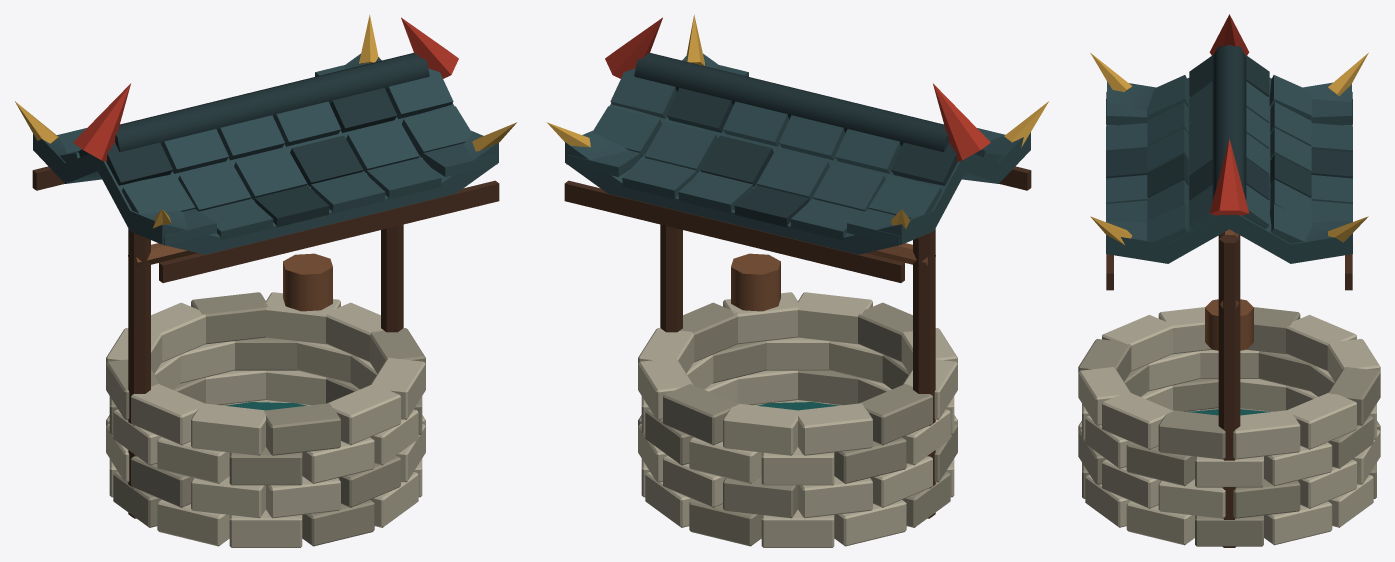
File: well.glb
3 renders of one model, left to right at view 1: azimuth 30°, elevation 25°; view 2: azimuth 150°, elevation 25°; view 3: azimuth 270°, elevation 25°, orthographic. The views are drawn at different scales.
Parts seen in each view (by area): view 1: Well; view 2: Well; view 3: Well.
Part boxes in pixels (bbox=[...]): Well: bbox=[15, 14, 516, 547]; Well: bbox=[547, 14, 1048, 547]; Well: bbox=[1078, 14, 1380, 547].
Size of what is drawn, in the model's own units: 2.68 by 2.95 by 1.97.
